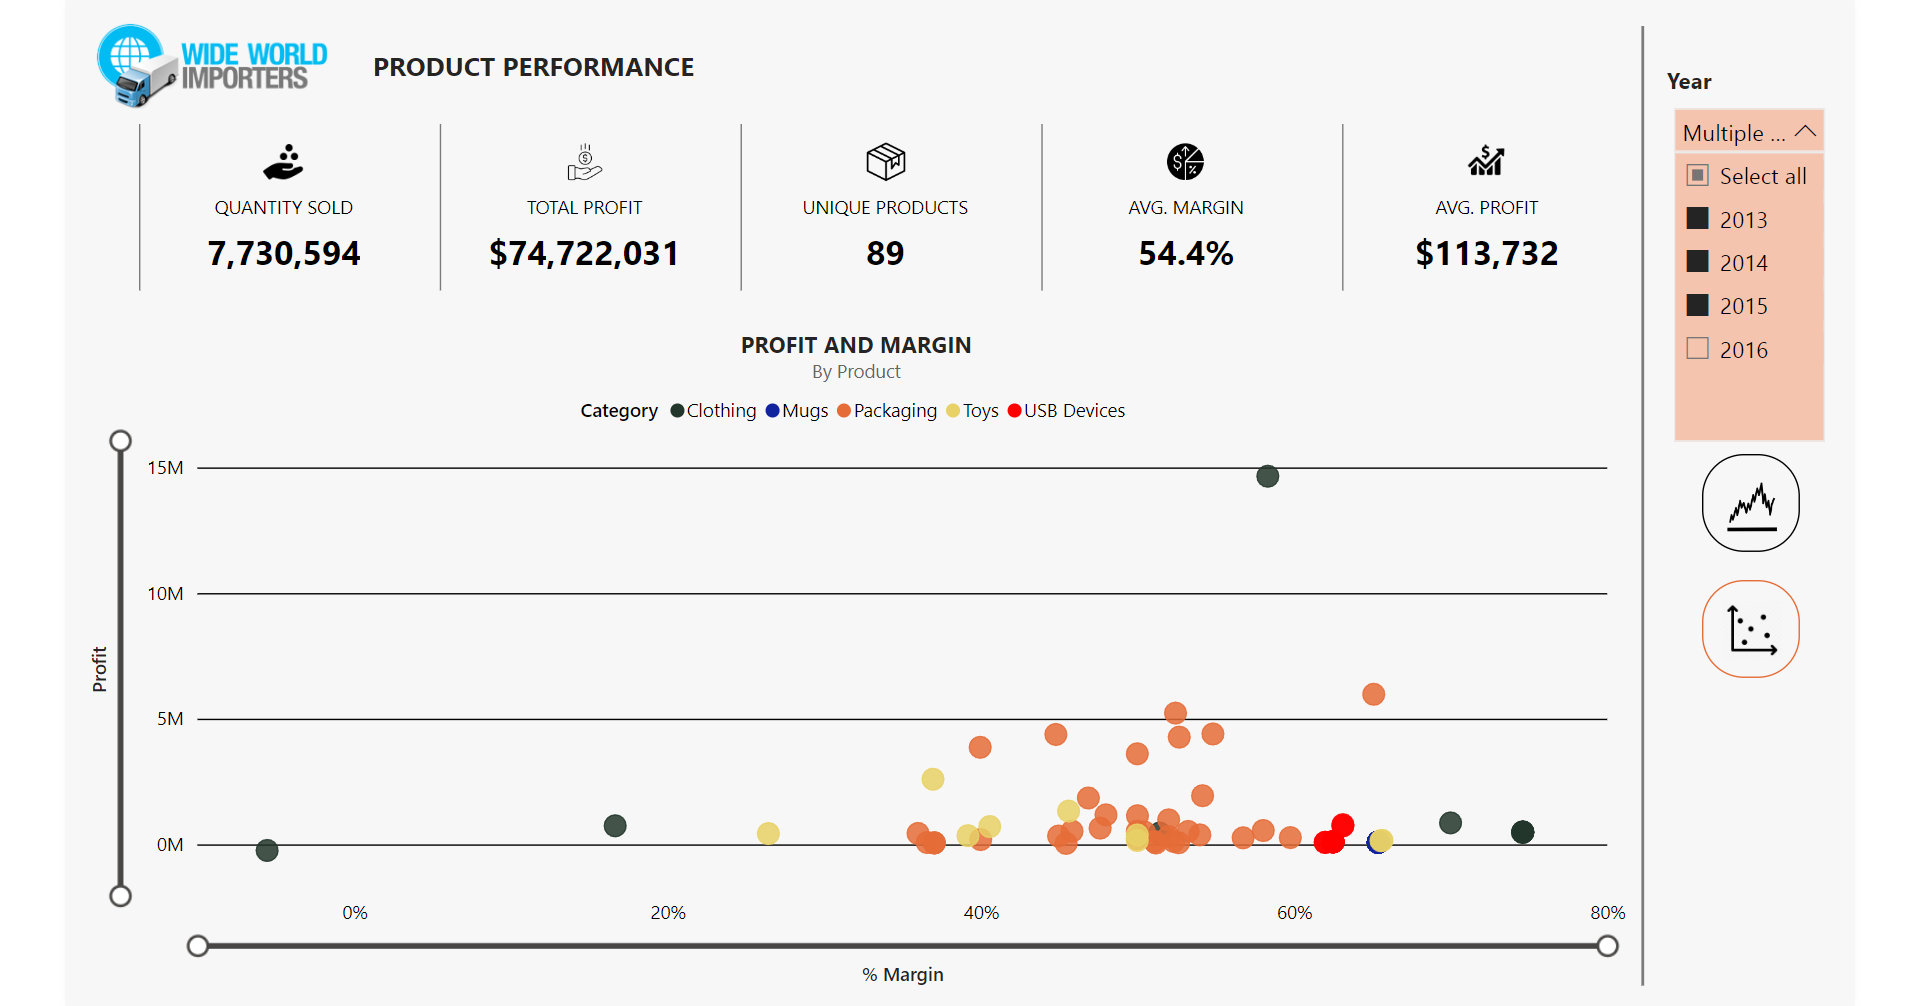

This screenshot's page, from the dashboard's own definition file:
{"tool":"powerbi","page":{"name":"Scatter Plot","canvas":[1280,720],"ordinal":2},"visuals":[{"type":"textbox","box":[215,29,550,49],"z":0},{"type":"image","box":[11,10,195,73],"z":1000},{"type":"shape","box":[1121.2,18.8,12.5,686],"z":2000},{"type":"scatterChart","title":"PROFIT AND MARGIN","fields":{"X":["Avg(product.PctMargin)"],"Category":["product.StockItemName"],"Series":["product.Category"],"Y":["Sum(product.LineProfit)"]},"box":[11,235,1110,470],"z":3000},{"type":"slicer","title":"Year","fields":{"Values":["product.Year"]},"box":[1140,46.6,128.1,66.3],"z":4000},{"type":"image","box":[1169.9,324.4,70,70],"z":5000},{"type":"image","box":[1169.5,234.6,70,70],"z":6000},{"type":"image","box":[1169.9,414.4,70,70],"z":7000},{"type":"cardVisual","fields":{"Data":["product.Quantity Sold","product.Total Profit","product.Unique Products","product.Average Margin","product.Average Profit"]},"box":[47.7,83.6,1080.6,129.4],"z":8000}]}

Visuals, with their boxes on the page's 1280x720 design canvas (x1, y1, x2, y2). These are canvas units, not pixel positions in the 1919x1006 screenshot, which may show the page scaled, cropped or inside an application window:
textbox: (215, 29, 765, 78)
image: (11, 10, 206, 83)
shape: (1121, 19, 1134, 705)
"PROFIT AND MARGIN" scatterChart: (11, 235, 1121, 705)
"Year" slicer: (1140, 47, 1268, 113)
image: (1170, 324, 1240, 394)
image: (1170, 235, 1240, 305)
image: (1170, 414, 1240, 484)
cardVisual - product.Quantity Sold x product.Total Profit: (48, 84, 1128, 213)
